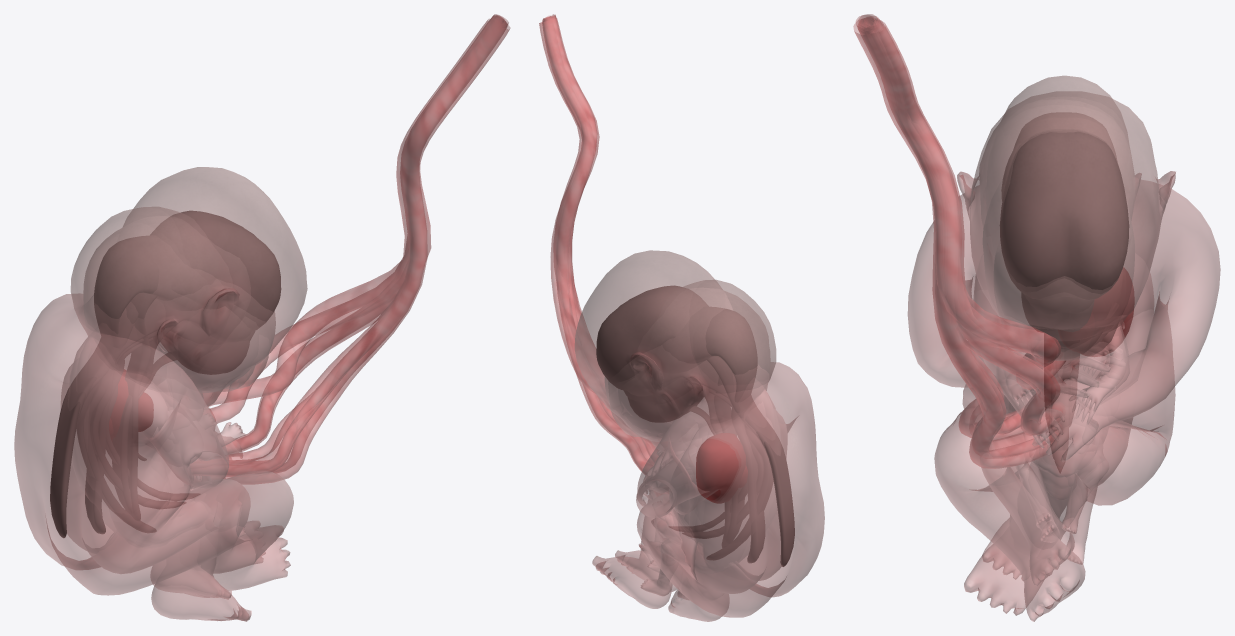
Rendered from FetosNuevos.fbx.
3 views of the same model, side by side, from view 1: azimuth 30°, elevation 25°; view 2: azimuth 150°, elevation 25°; view 3: azimuth 270°, elevation 25° (orthographic). The views are drawn at different scales.
Parts seen in each view (by area): view 1: feto_9, feto_8, feto_7, feto_5, feto_6, feto_4, feto_1, feto_3, feto_2; view 2: feto_9, feto_8, feto_7, feto_6, feto_3, feto_5, feto_2, feto_1, feto_4; view 3: feto_9, feto_8, feto_7, feto_6, feto_1, feto_2, feto_3, feto_4, feto_5.
Part boxes in pixels (x1=…): feto_9: x1=14, y1=167, x2=346, y2=621; feto_8: x1=61, y1=14, x2=504, y2=599; feto_7: x1=83, y1=15, x2=508, y2=545; feto_5: x1=68, y1=15, x2=505, y2=540; feto_6: x1=112, y1=17, x2=507, y2=540; feto_4: x1=76, y1=26, x2=507, y2=508; feto_1: x1=164, y1=19, x2=510, y2=410; feto_3: x1=106, y1=19, x2=490, y2=500; feto_2: x1=138, y1=110, x2=423, y2=460; feto_9: x1=568, y1=100, x2=824, y2=621; feto_8: x1=542, y1=16, x2=787, y2=599; feto_7: x1=543, y1=14, x2=770, y2=596; feto_6: x1=542, y1=18, x2=744, y2=575; feto_3: x1=543, y1=24, x2=746, y2=532; feto_5: x1=544, y1=15, x2=781, y2=567; feto_2: x1=539, y1=21, x2=715, y2=434; feto_1: x1=542, y1=18, x2=690, y2=451; feto_4: x1=568, y1=195, x2=775, y2=538; feto_9: x1=866, y1=20, x2=1220, y2=621; feto_8: x1=864, y1=16, x2=1153, y2=585; feto_7: x1=856, y1=15, x2=1134, y2=564; feto_6: x1=858, y1=17, x2=1134, y2=533; feto_1: x1=853, y1=18, x2=1100, y2=389; feto_2: x1=862, y1=18, x2=1063, y2=378; feto_3: x1=869, y1=21, x2=1092, y2=477; feto_4: x1=857, y1=20, x2=1124, y2=477; feto_5: x1=858, y1=14, x2=1125, y2=488.
Size of the model in its own units: 4897 by 7146 by 3318.
